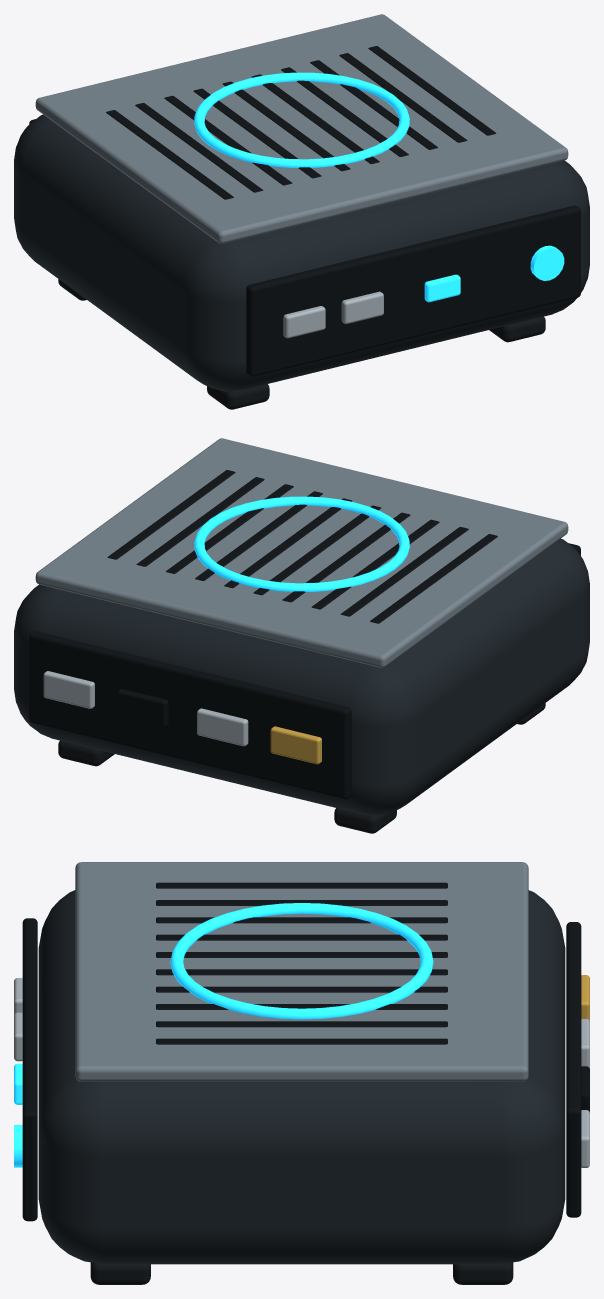
The model's file is mini-pc.glb.
The picture shows the model from 3 angles, top to bottom: view 1: azimuth 30°, elevation 25°; view 2: azimuth 150°, elevation 25°; view 3: azimuth 270°, elevation 25°; orthographic projection. The views are drawn at different scales.
Parts seen in each view (by area): view 1: Mini PC enclosure, Machined top, Front IO panel, Top ventilation (×10), Premium compact mini PC, USB port (×2), Rubber foot (×2), Power control, USB-C port; view 2: Mini PC enclosure, Machined top, Rear ports, Top ventilation (×10), Rear connection (×4), Premium compact mini PC, Rubber foot (×2); view 3: Mini PC enclosure, Machined top, Top ventilation (×10), Premium compact mini PC, Front IO panel, Rear ports, Rubber foot (×2).
Part boxes in pixels (box(x1,y1,x2,y2)): Mini PC enclosure: box(14, 114, 589, 391); Machined top: box(35, 14, 568, 243); Front IO panel: box(246, 205, 580, 376); Top ventilation (×10): box(106, 46, 496, 199); Premium compact mini PC: box(194, 72, 409, 167); USB port (×2): box(283, 291, 383, 338); Rubber foot (×2): box(207, 316, 545, 409); Power control: box(530, 245, 564, 280); USB-C port: box(424, 274, 460, 302); Mini PC enclosure: box(14, 538, 589, 815); Machined top: box(35, 438, 568, 667); Rear ports: box(29, 631, 351, 799); Top ventilation (×10): box(107, 470, 497, 623); Rear connection (×4): box(43, 671, 321, 764); Premium compact mini PC: box(194, 496, 409, 591); Rubber foot (×2): box(58, 740, 396, 833); Mini PC enclosure: box(38, 890, 565, 1264); Machined top: box(75, 862, 528, 1081); Top ventilation (×10): box(156, 882, 447, 1044); Premium compact mini PC: box(170, 903, 433, 1019); Front IO panel: box(22, 918, 37, 1221); Rear ports: box(566, 922, 581, 1217); Rubber foot (×2): box(90, 1262, 513, 1284).
Bounding box in the file's own units: 1.3 × 0.605 × 1.34.
